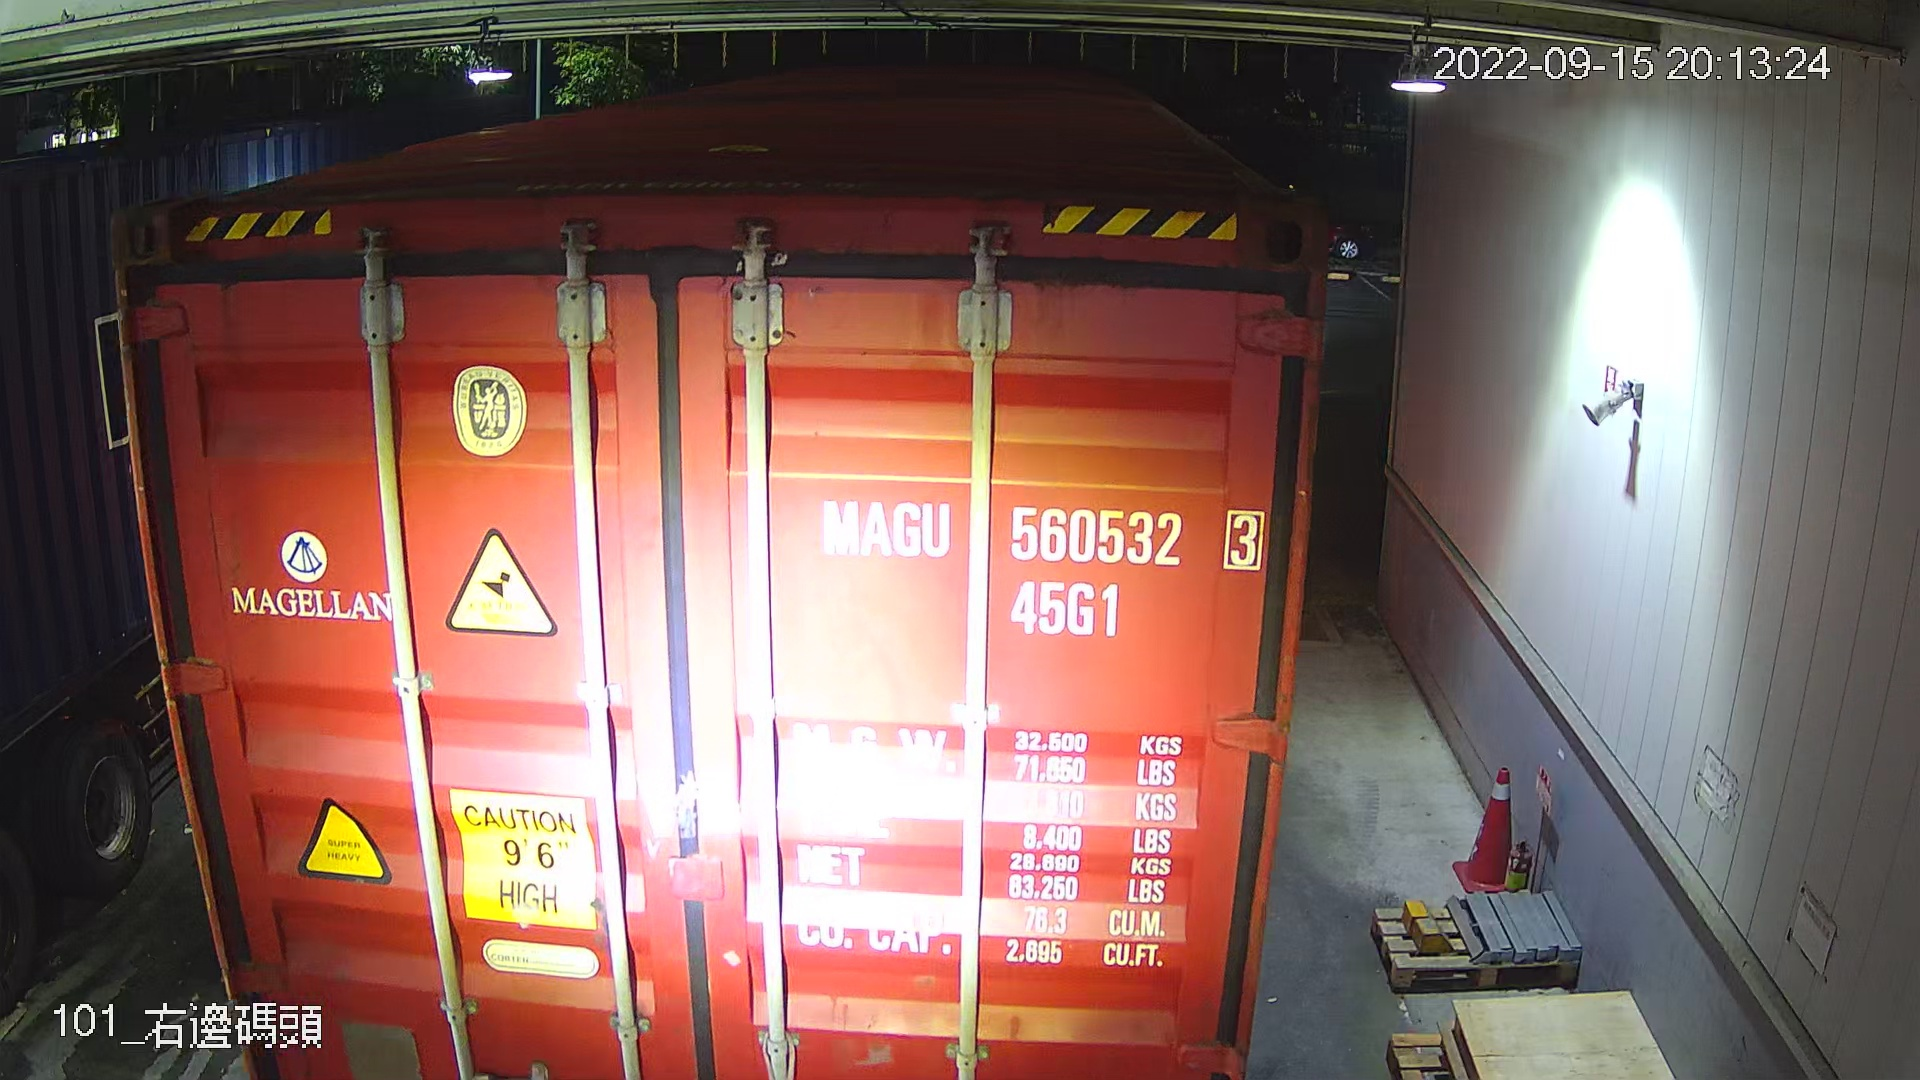container: (806, 469, 1279, 649)
